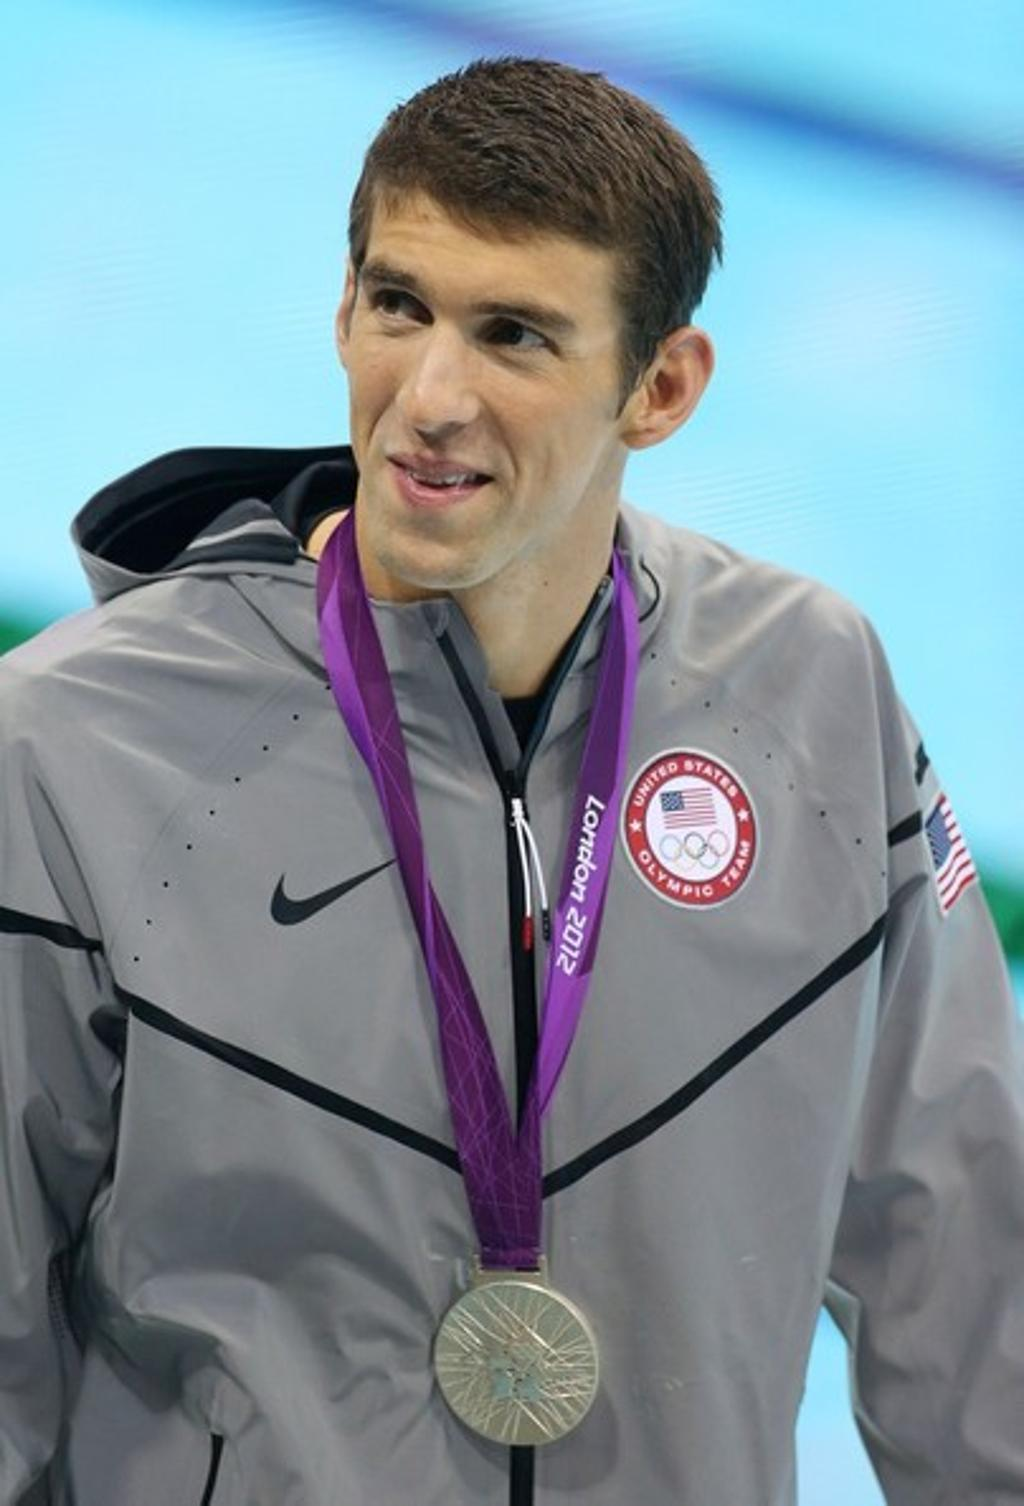face: (350, 197, 618, 585)
